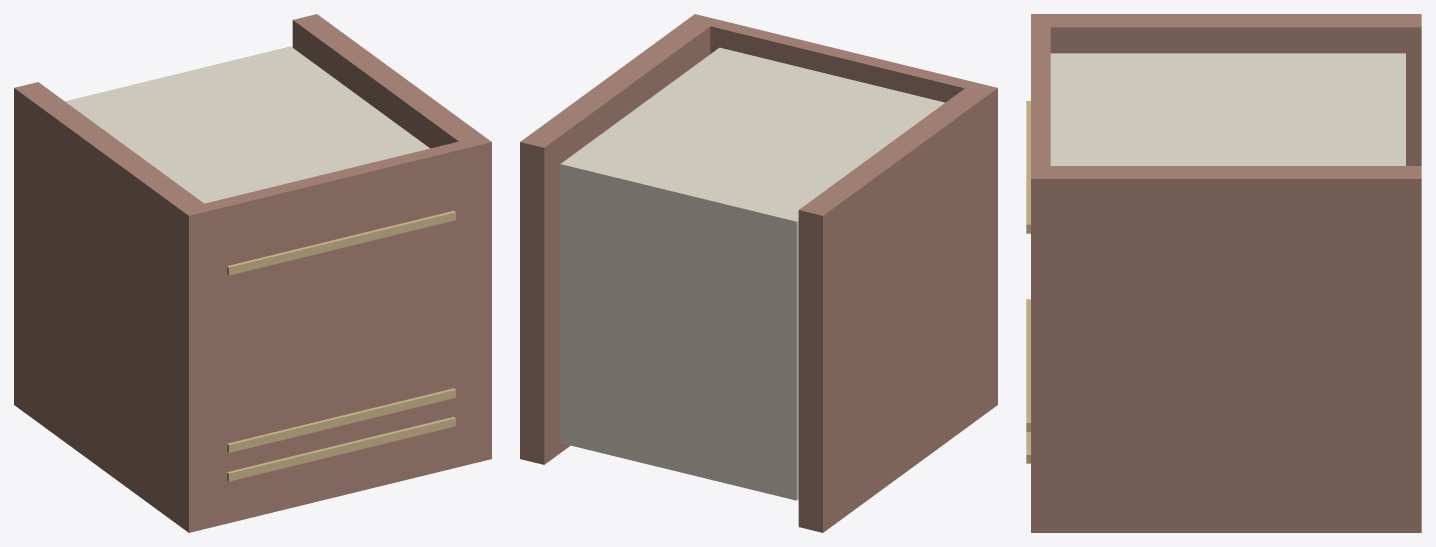
Rendered from island-book-1.glb.
The picture shows the model from 3 angles, left to right: view 1: azimuth 30°, elevation 25°; view 2: azimuth 150°, elevation 25°; view 3: azimuth 270°, elevation 25°; orthographic projection. The views are drawn at different scales.
Visible parts, largest first — view 1: IslandBook1; view 2: IslandBook1; view 3: IslandBook1.
Part boxes in pixels (x1,y1,x2,y2): IslandBook1: (14, 14, 491, 532); IslandBook1: (520, 14, 997, 532); IslandBook1: (1026, 14, 1421, 532).
Size of the model in its own units: 1 by 1 by 1.01.
